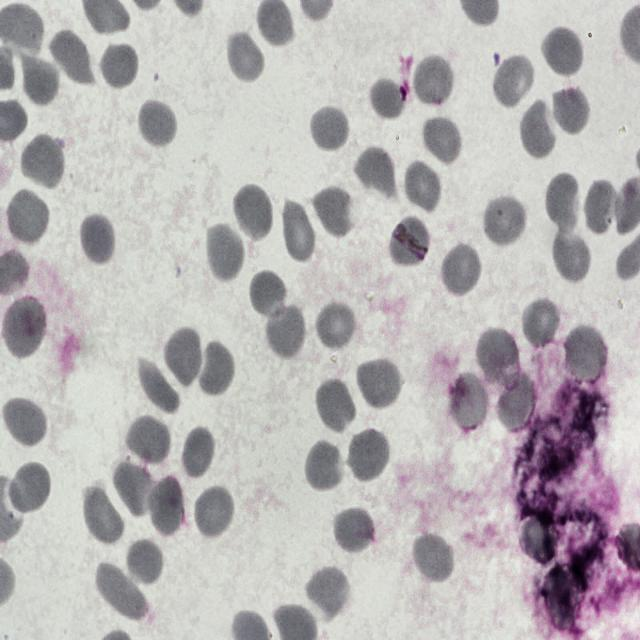red blood cell: (95, 566, 155, 624), (472, 328, 522, 397), (0, 294, 48, 358), (80, 483, 126, 547), (562, 320, 608, 384), (18, 133, 66, 192), (4, 187, 50, 248), (136, 356, 184, 414), (230, 179, 273, 242), (162, 325, 204, 389), (46, 28, 92, 86), (411, 51, 456, 110), (518, 99, 560, 162), (492, 51, 536, 111), (448, 369, 488, 435), (6, 460, 53, 516), (409, 529, 456, 585), (115, 455, 158, 516), (346, 426, 391, 484), (204, 222, 246, 284), (280, 198, 319, 264), (438, 241, 483, 298), (482, 193, 528, 248), (314, 375, 356, 435), (544, 170, 584, 233), (146, 473, 187, 534), (192, 484, 235, 542), (194, 339, 236, 398), (314, 297, 358, 353), (356, 359, 404, 410), (540, 25, 585, 79), (352, 145, 396, 200), (304, 564, 350, 616), (550, 226, 590, 285), (18, 52, 60, 108), (584, 176, 622, 237), (225, 30, 267, 85), (520, 296, 564, 348), (401, 160, 442, 215), (304, 439, 345, 494), (420, 115, 464, 166), (248, 269, 290, 322), (1, 398, 47, 446), (332, 506, 376, 556), (550, 84, 590, 138), (126, 417, 170, 466), (78, 213, 117, 268), (309, 103, 351, 154), (136, 97, 178, 148), (179, 426, 217, 482), (98, 41, 140, 91), (496, 379, 534, 433), (125, 538, 164, 590), (314, 186, 354, 236), (265, 308, 305, 355), (368, 76, 408, 119)
trophozoite: (388, 217, 432, 270)
